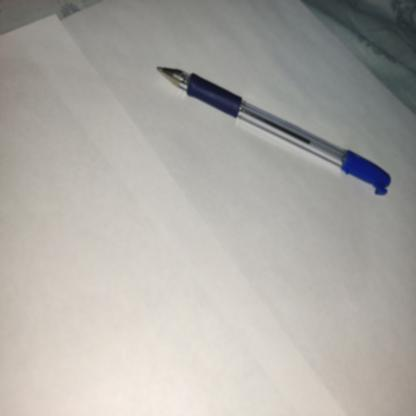Pen: (149, 52, 402, 255)
